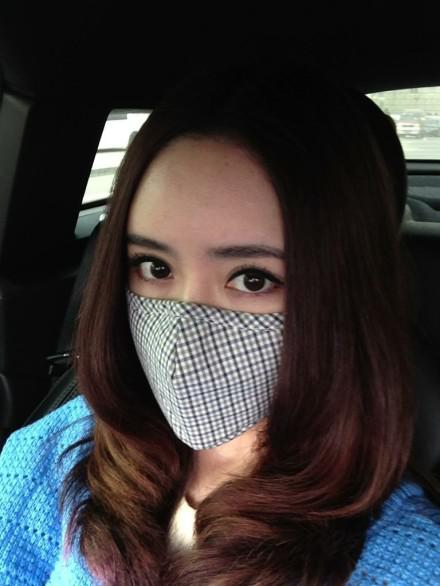OK: (110, 228, 324, 442)
